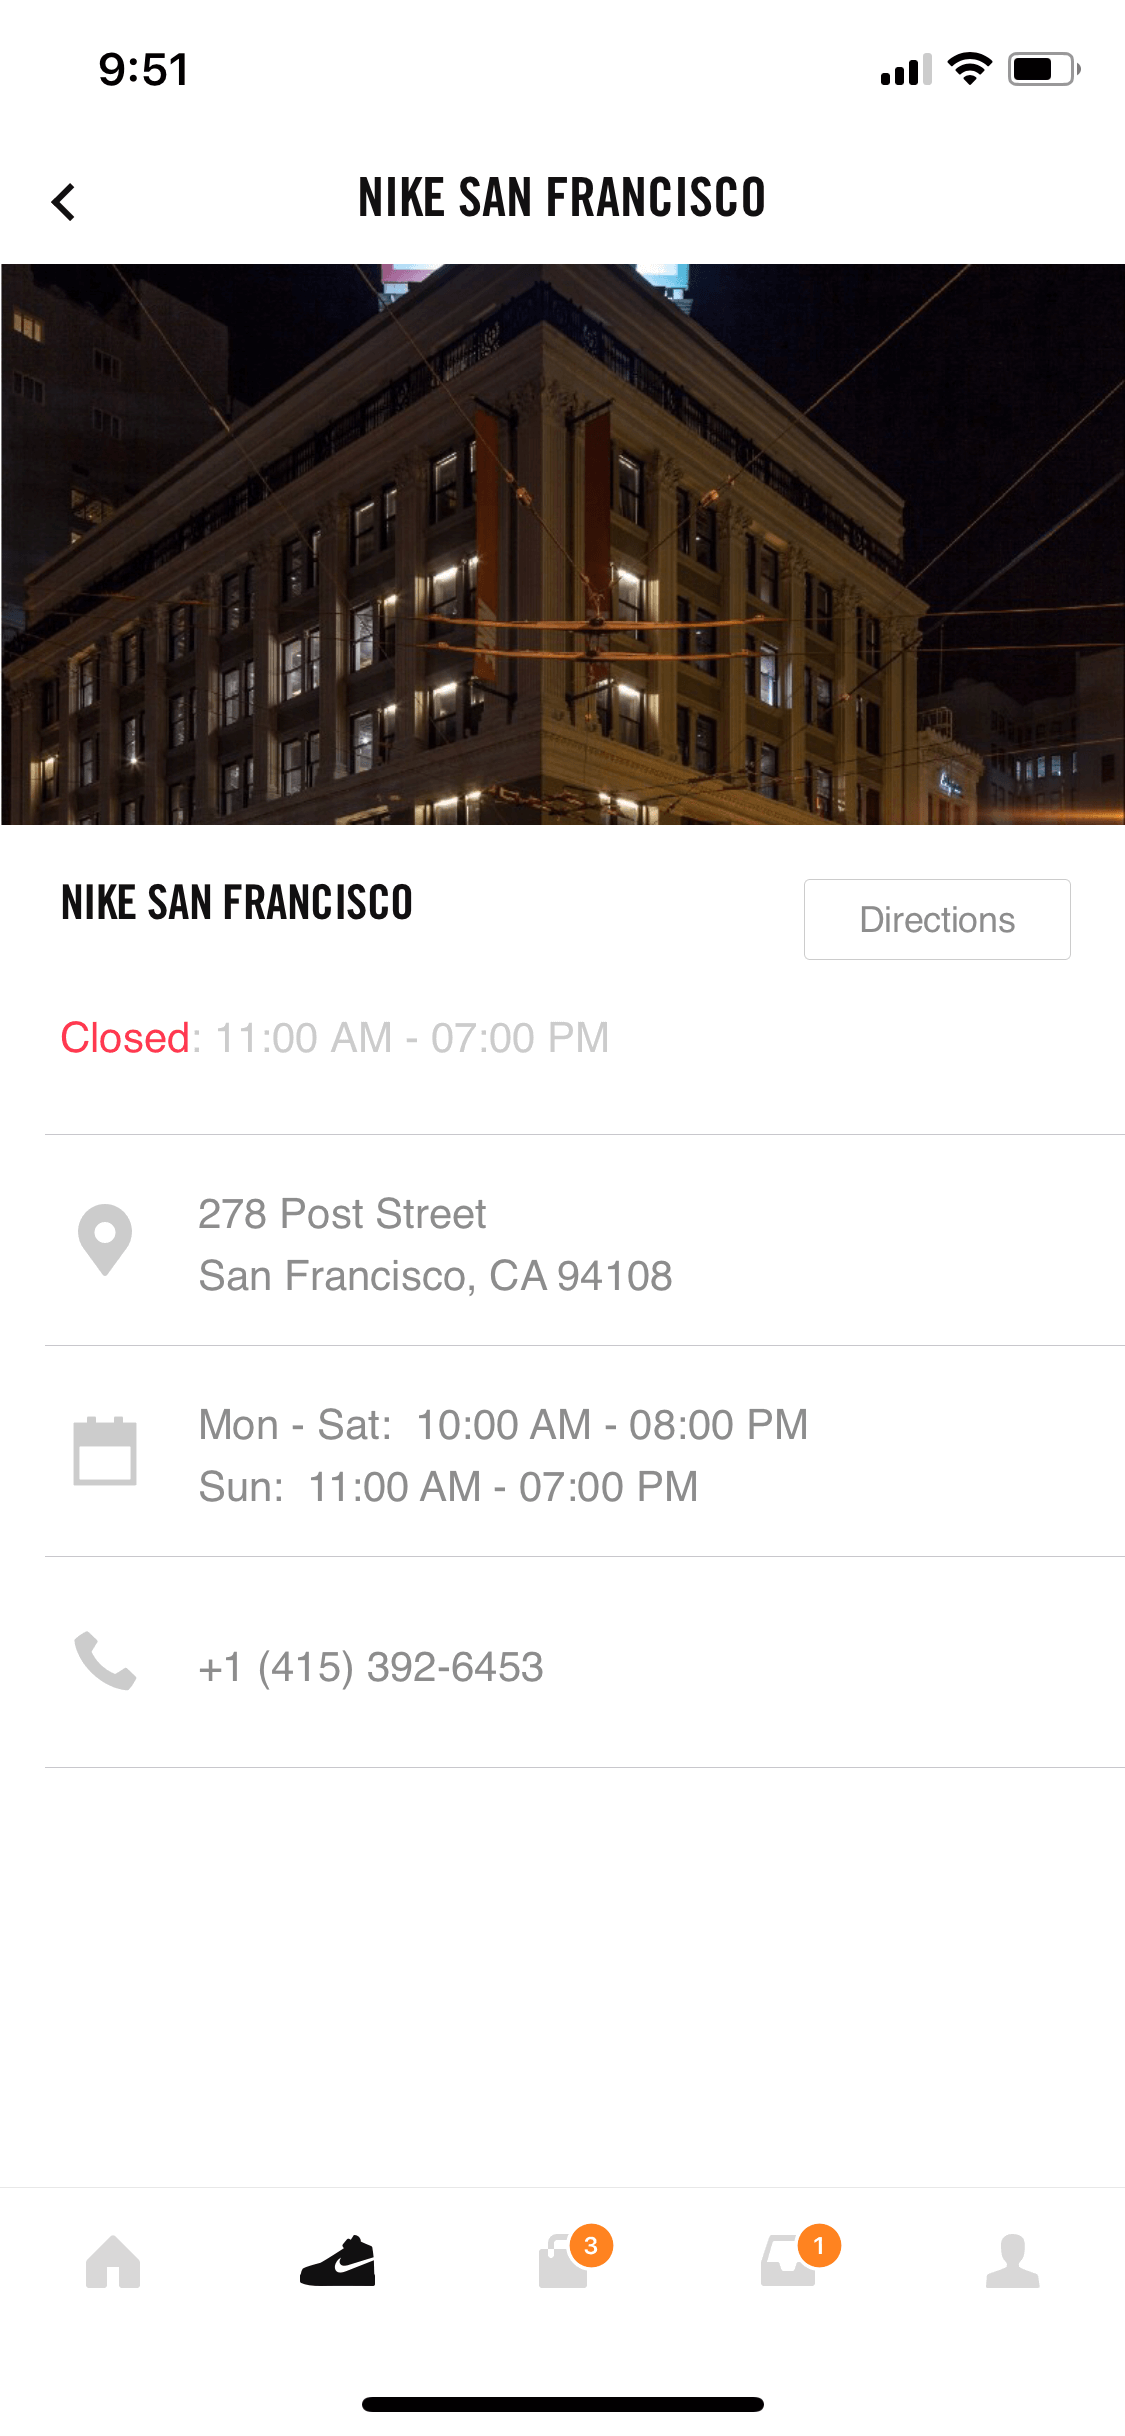Buttons: (780, 864, 1078, 983), (23, 140, 135, 249)
